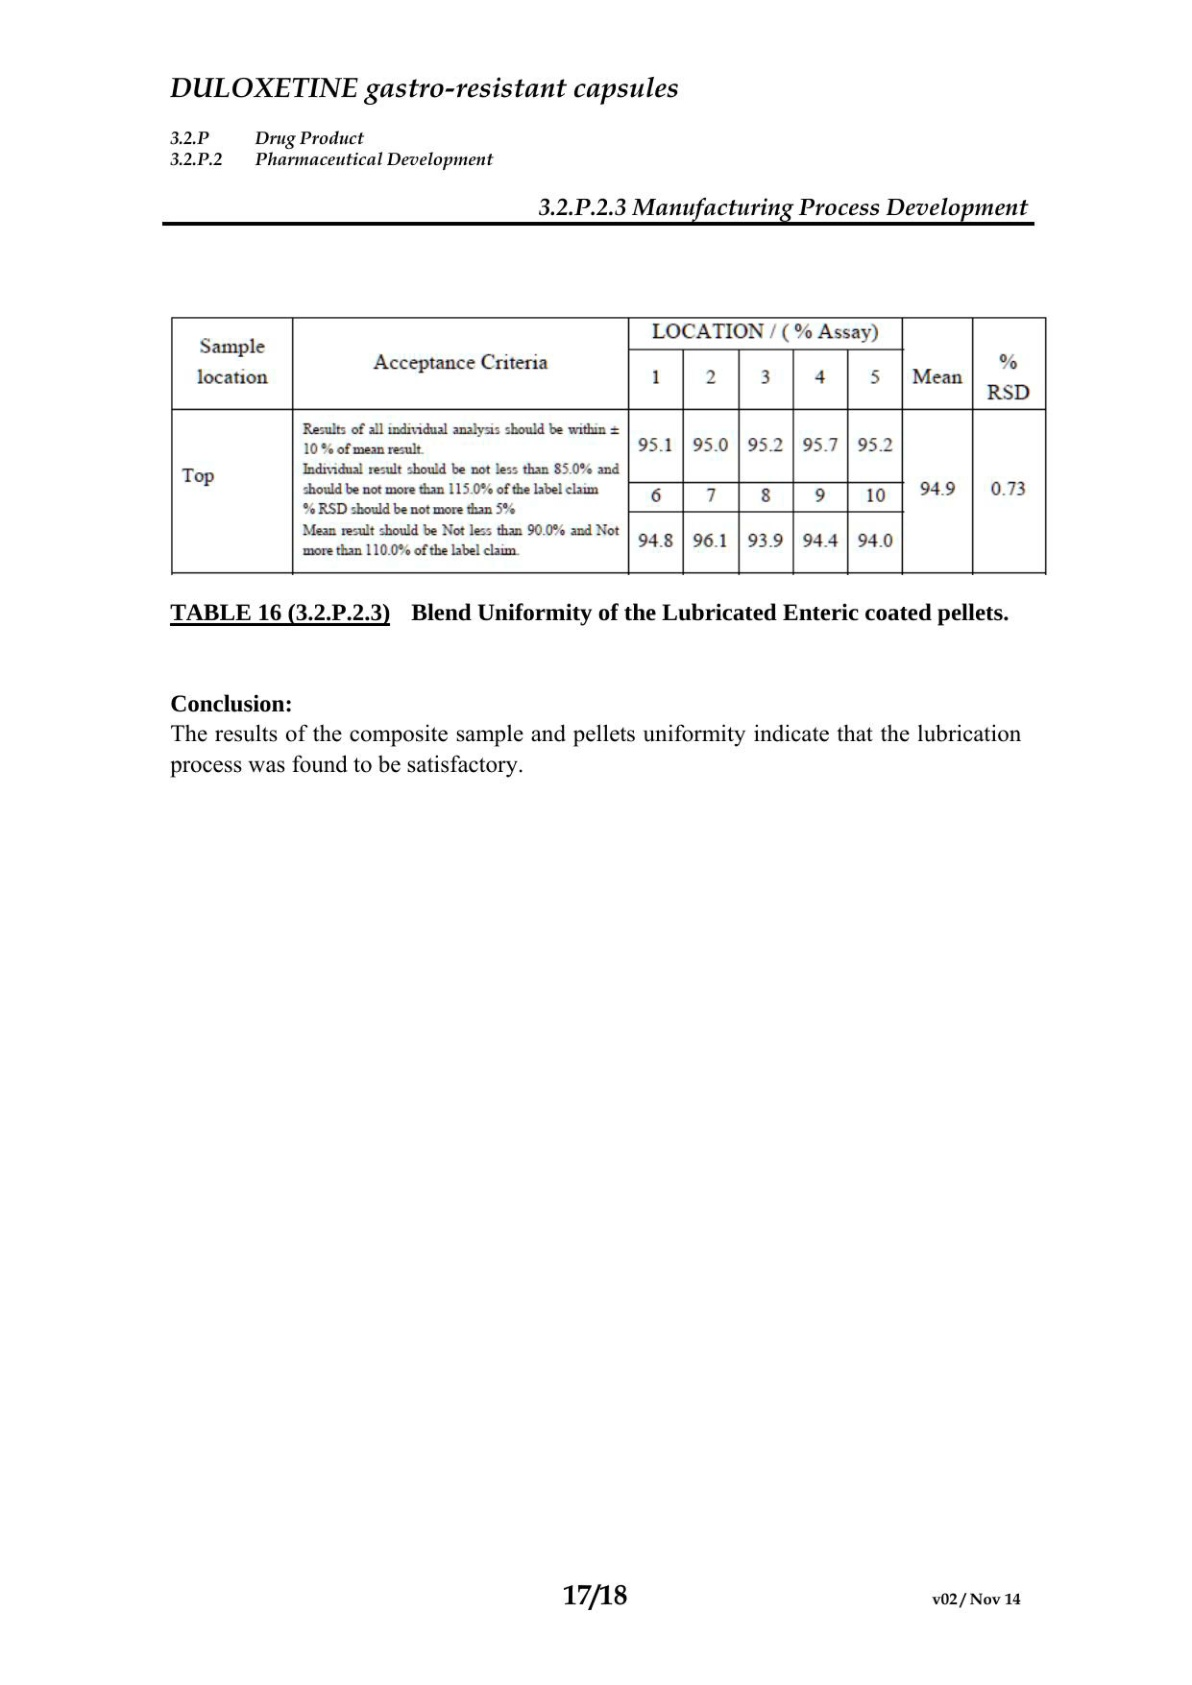merged_cells: (170, 315, 1048, 575)
